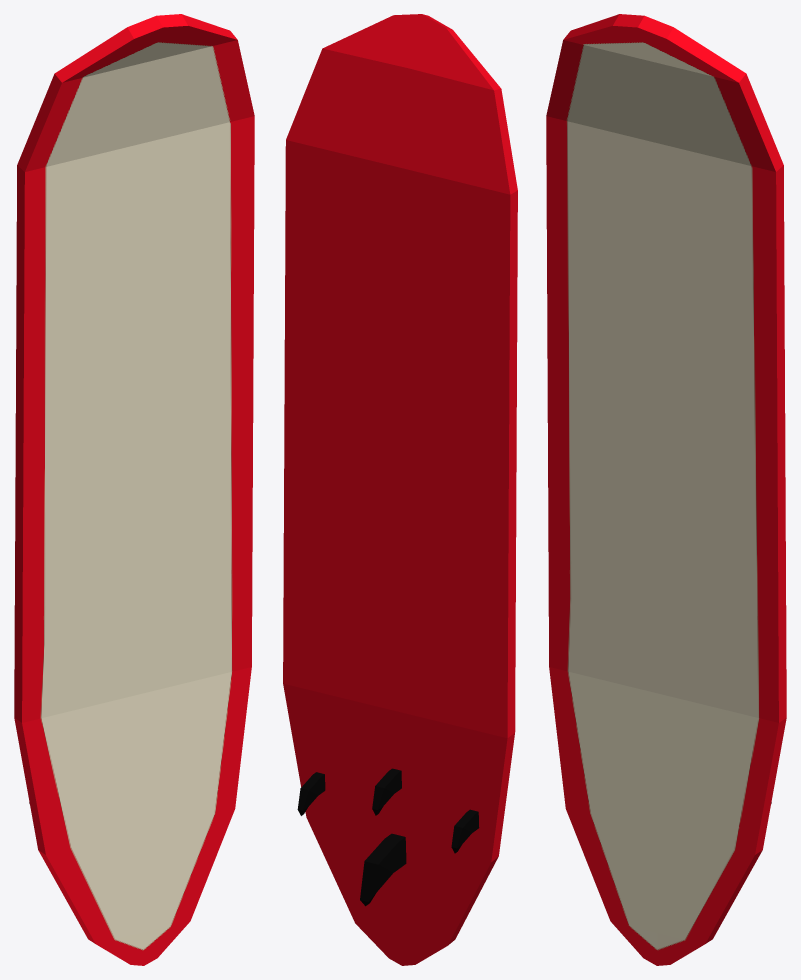
File: Surfboard.glb
3 views of the same model, side by side, from view 1: azimuth 30°, elevation 25°; view 2: azimuth 150°, elevation 25°; view 3: azimuth 330°, elevation 25° (orthographic). The views are drawn at different scales.
Visible parts, largest first — view 1: Plane; view 2: Plane; view 3: Plane.
Boxes of the visible parts, x1,y1,x2,y2 form: Plane: (14, 14, 254, 965); Plane: (283, 14, 517, 965); Plane: (546, 14, 786, 965).
Size of the model in its own units: 0.5036 by 2.01 by 0.25.
Materials: 1 (1 with a texture image).
